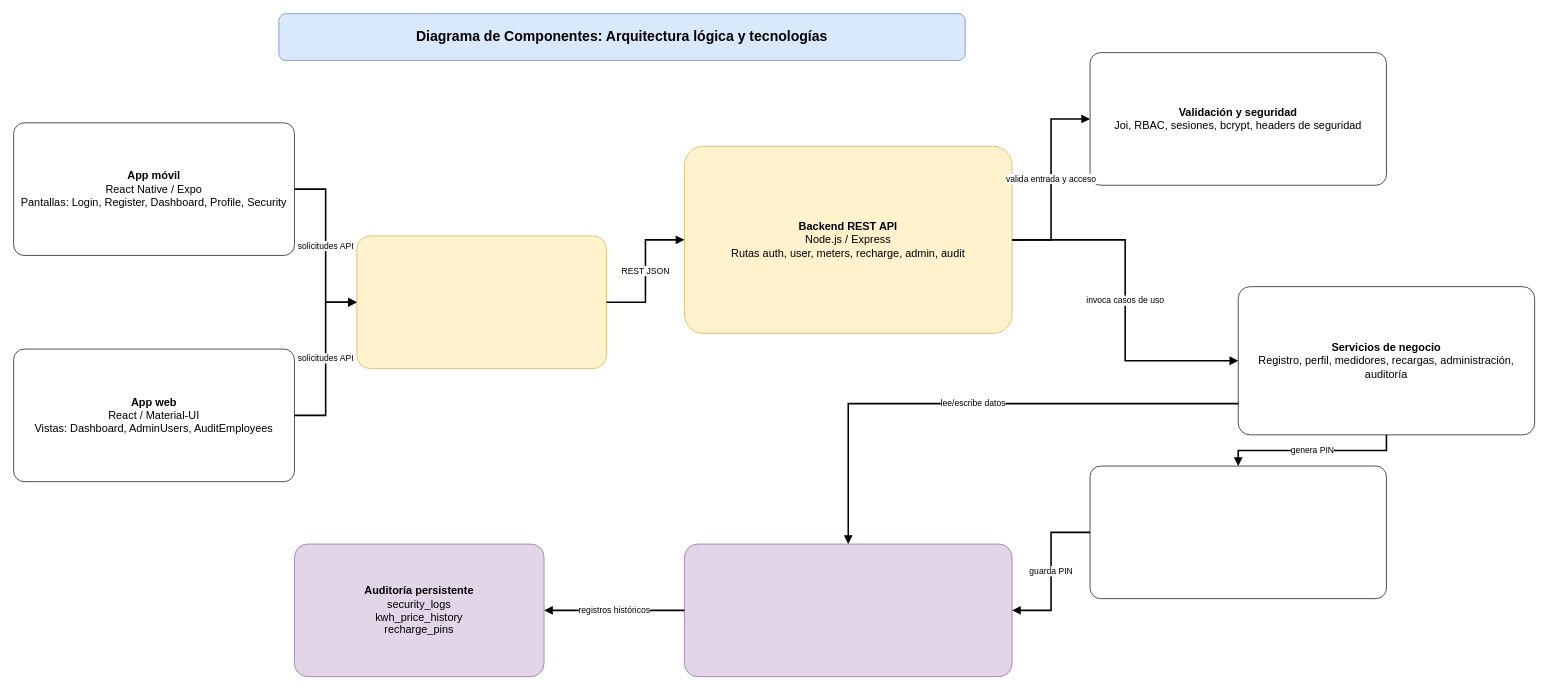
The diagram is 1548 pixels wide and 690 high, and some of its shapes have lost their labels. Each missing label, with the centre of its shape:
MySQL Tablas, constraints, transacciones y stored procedures: the point at 848,610
Servicio STS-20 PIN de 20 dígitos HMAC-SHA256 Dígito Luhn: the point at 1237,532
Transporte HTTPS Cookies httpOnly CORS con credenciales: the point at 481,302
